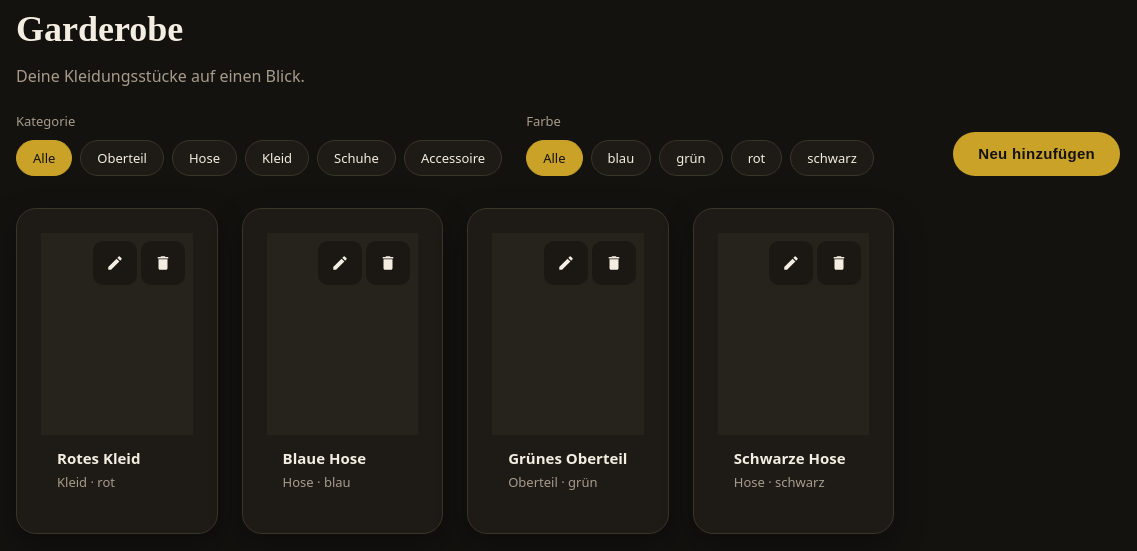
Test case: Wardrobe – Filter › filters by category
Expected: the heading "Rotes Kleid" is shown, x1=57 y1=448 x2=140 y2=468
Click the button "Hose": (205, 158) x1=172 y1=140 x2=237 y2=176
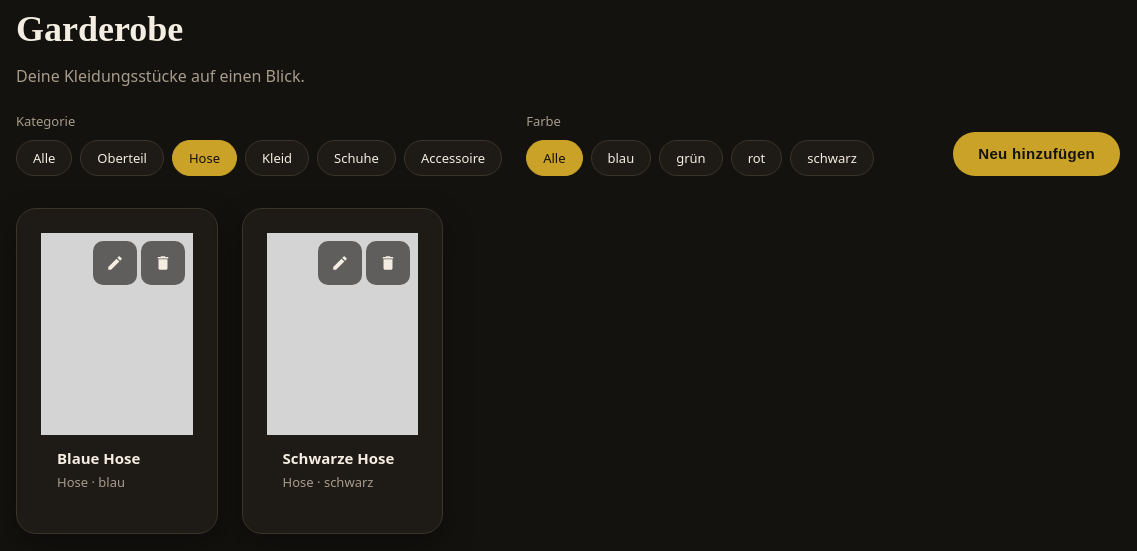
Expected: the heading "Blaue Hose" is shown, x1=57 y1=448 x2=140 y2=468
Now the heading "Rotes Kleid" is gone
Now the heading "Grünes Oberteil" is gone
